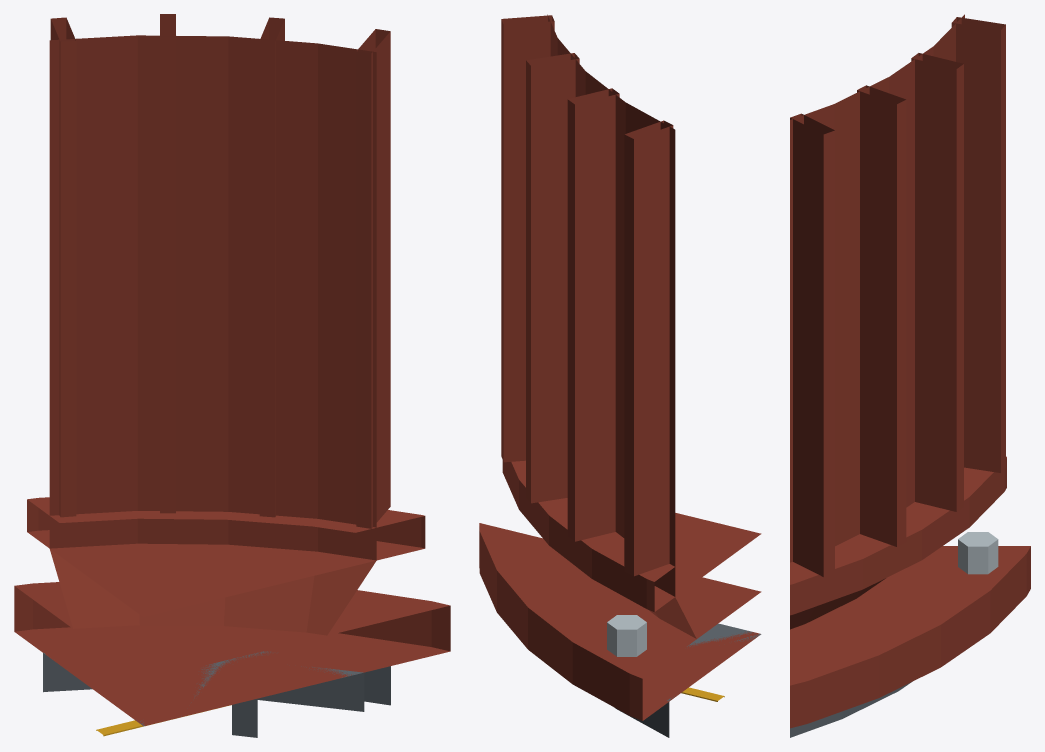
The model's file is cell_60.obj.
3 views of the same model, side by side, from view 1: azimuth 30°, elevation 25°; view 2: azimuth 150°, elevation 25°; view 3: azimuth 270°, elevation 25° (orthographic). The views are drawn at different scales.
Bounding box in the file's own units: 0.4893 × 1 × 0.357.
